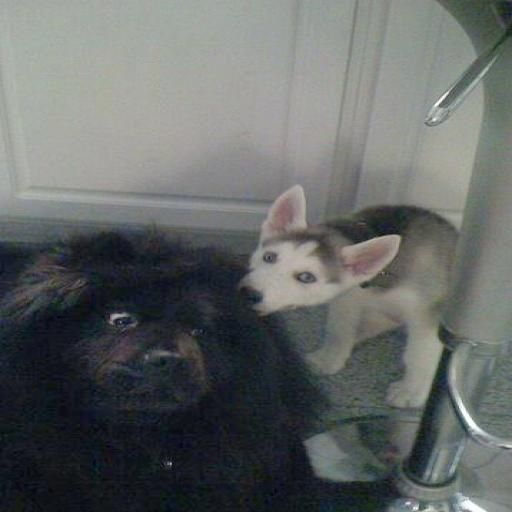dog_face: (252, 187, 397, 312)
